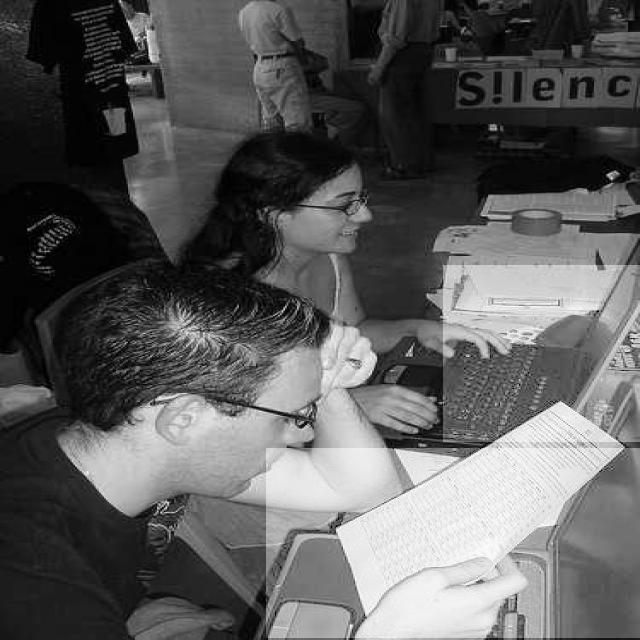-keyboard-: (266, 448, 640, 638), (443, 265, 640, 442)
